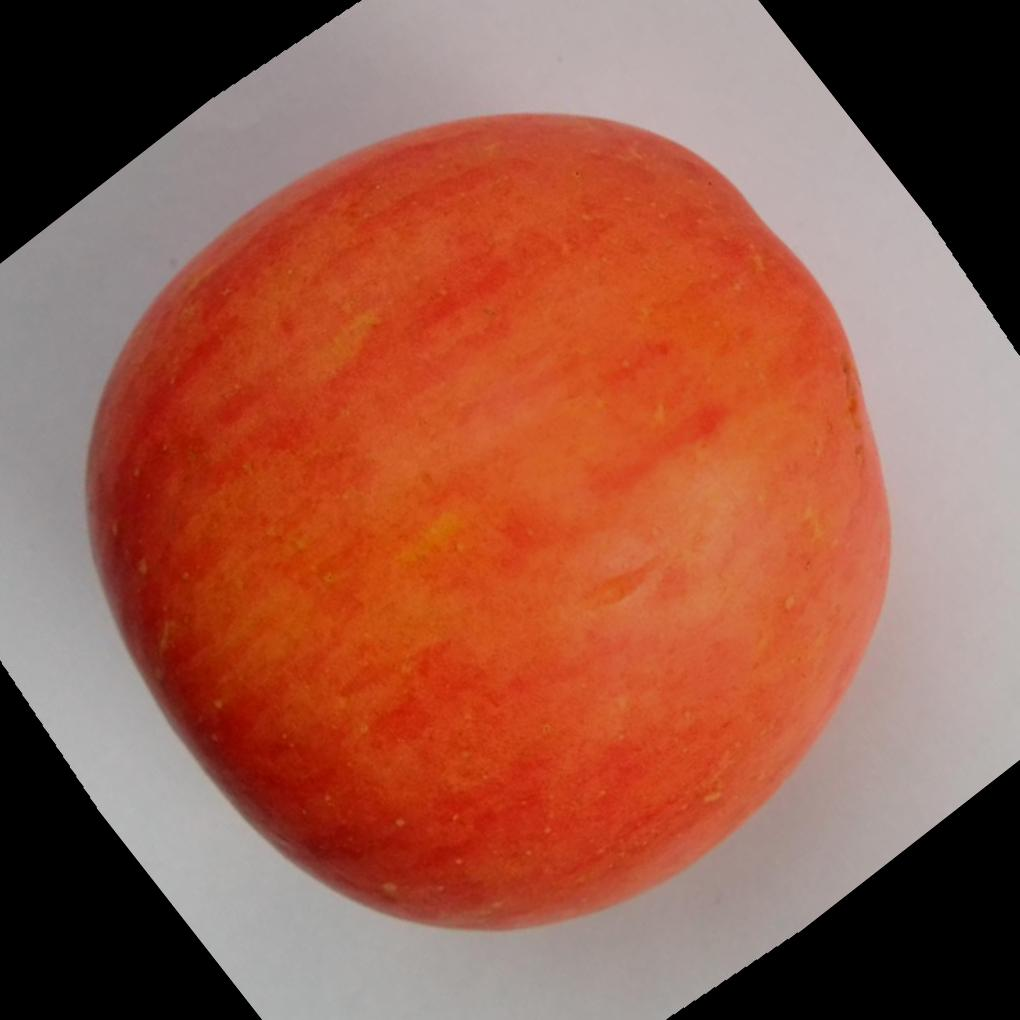FreshGuava: (80, 105, 892, 931)
